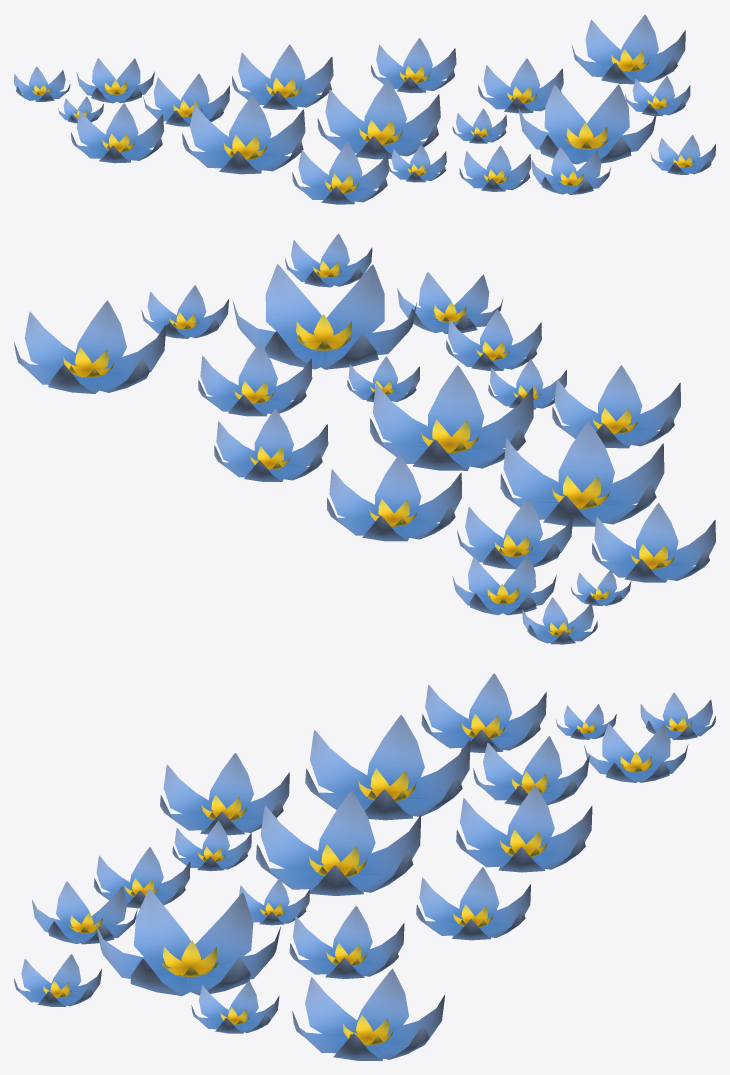
The picture shows the model from 3 angles, top to bottom: view 1: azimuth 30°, elevation 25°; view 2: azimuth 150°, elevation 25°; view 3: azimuth 270°, elevation 25°; orthographic projection. The views are drawn at different scales.
Visible parts, largest first — view 1: Circle_022; view 2: Circle_022; view 3: Circle_022.
Boxes of the visible parts, box(x1,y1,x2,y2) form: Circle_022: box(14, 14, 715, 204); Circle_022: box(14, 233, 715, 644); Circle_022: box(14, 673, 715, 1060).
Size of the model in its own units: 220 by 13.5 by 179.
